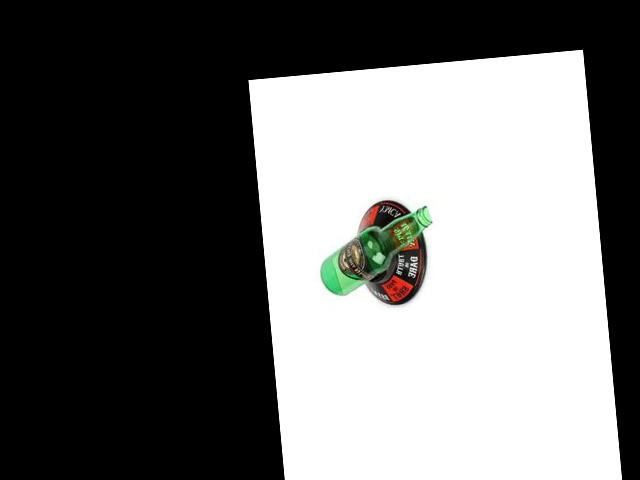beer: (316, 206, 438, 298)
